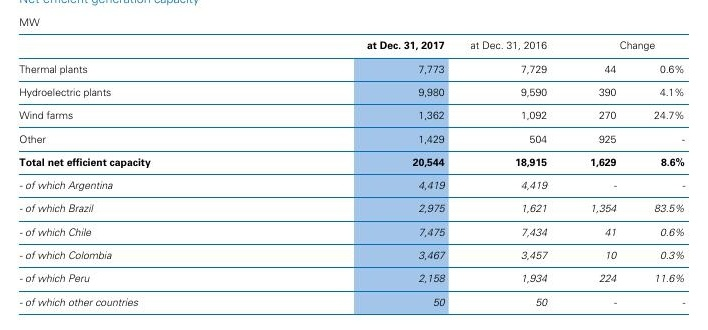table: (0, 0, 708, 330)
